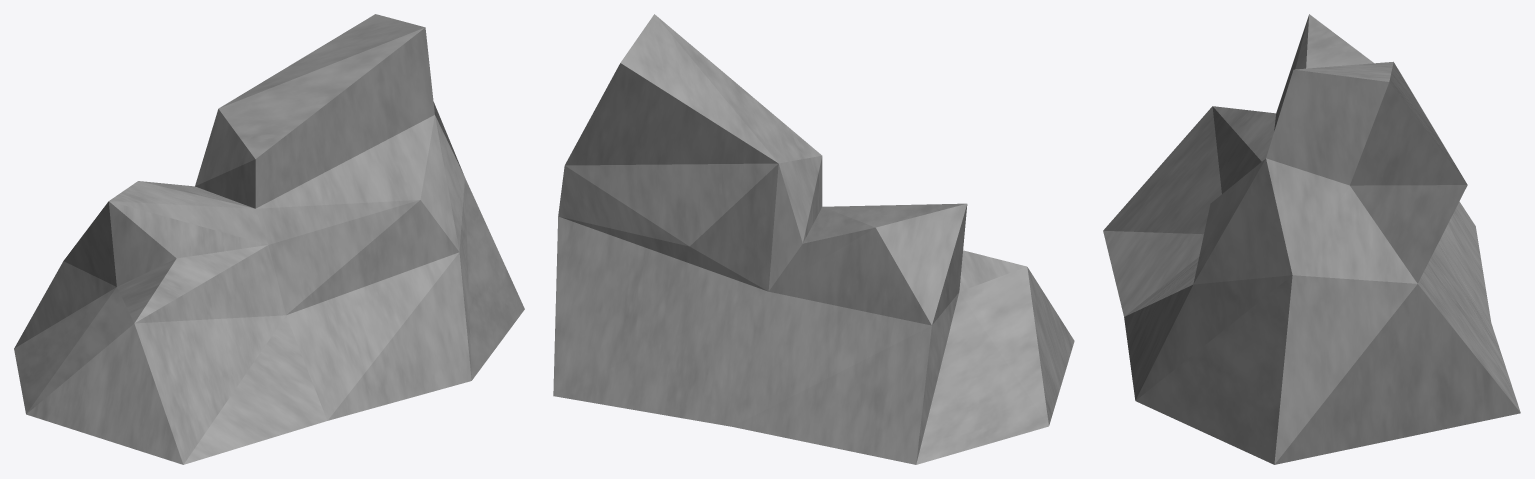
Rendered from real_stone_5.fbx.
3 views of the same model, side by side, from view 1: azimuth 30°, elevation 25°; view 2: azimuth 150°, elevation 25°; view 3: azimuth 270°, elevation 25° (orthographic). The views are drawn at different scales.
Parts seen in each view (by area): view 1: Stone_1; view 2: Stone_1; view 3: Stone_1.
Part boxes in pixels (x1,y1,x2,y2): Stone_1: (14,14,524,464); Stone_1: (553,14,1074,464); Stone_1: (1103,14,1520,464).
Bounding box in the file's own units: 506 × 299 × 329.
Materials: 1 (1 with a texture image).
